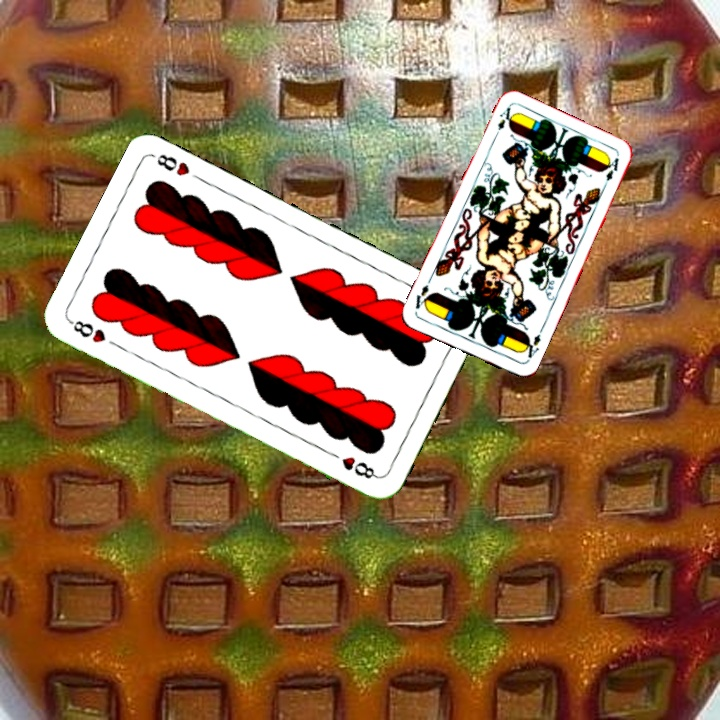EA: (490, 103, 516, 141), (519, 330, 543, 364)
H8: (65, 316, 108, 346)
